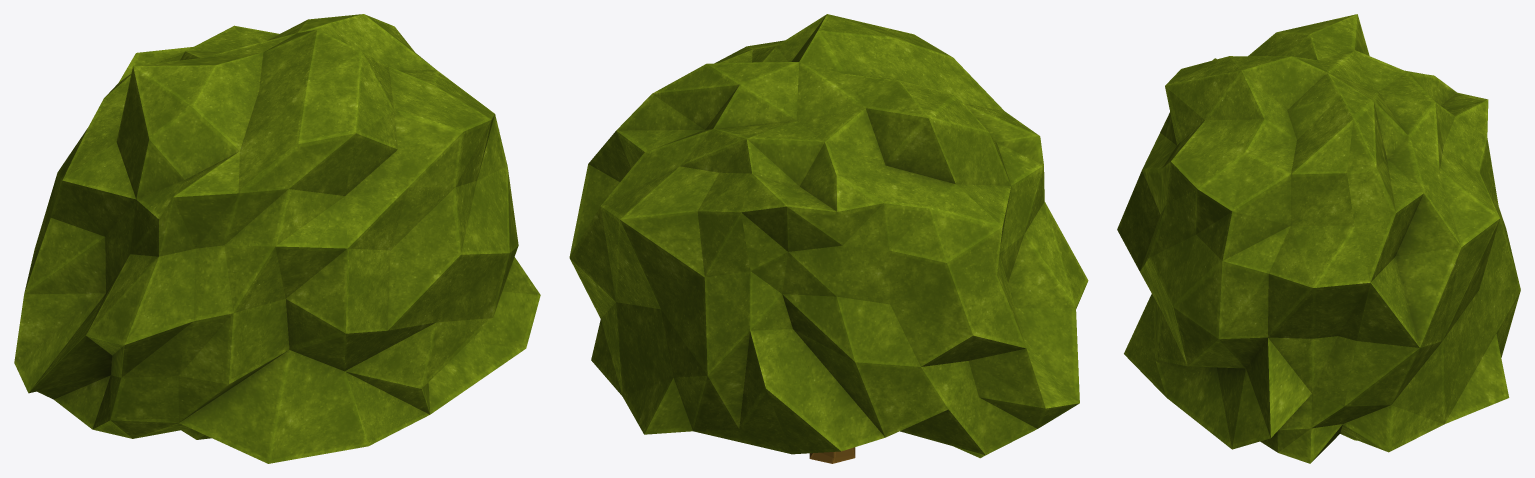
Rendered from cdbbf97e-2ccf-482f-86ba-b903ac513c63.glb.
The picture shows the model from 3 angles, left to right: view 1: azimuth 30°, elevation 25°; view 2: azimuth 150°, elevation 25°; view 3: azimuth 270°, elevation 25°; orthographic projection. The views are drawn at different scales.
Visible parts, largest first — view 1: OakTree_mesh; view 2: OakTree_mesh; view 3: OakTree_mesh.
Part boxes in pixels (<box>): OakTree_mesh: <box>14,14,540,463</box>; OakTree_mesh: <box>569,14,1088,463</box>; OakTree_mesh: <box>1117,14,1520,463</box>.
Size of the model in its own units: 16.1 by 13.09 by 12.42.
1 material, 1 textured.
